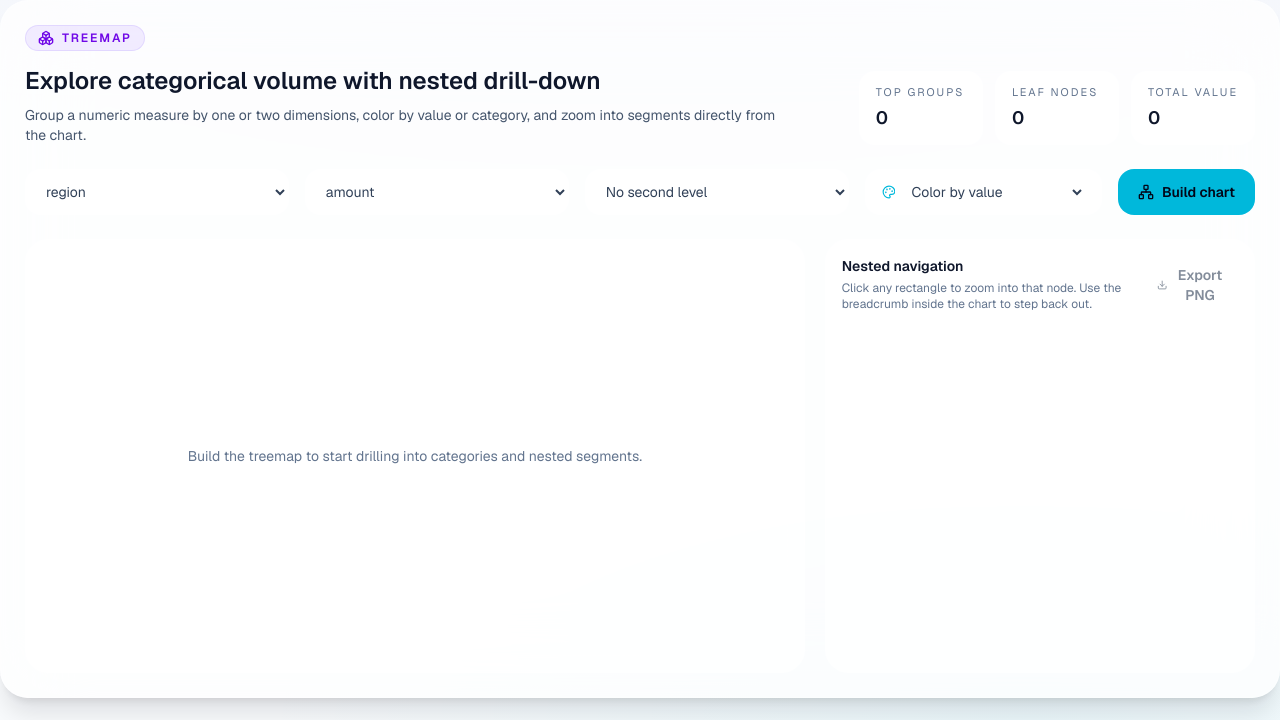
Test: TreemapChart › shows query errors when treemap generation fails
Step 1. Click the button "Build chart" → (1186, 192), box [1118,169,1255,215]
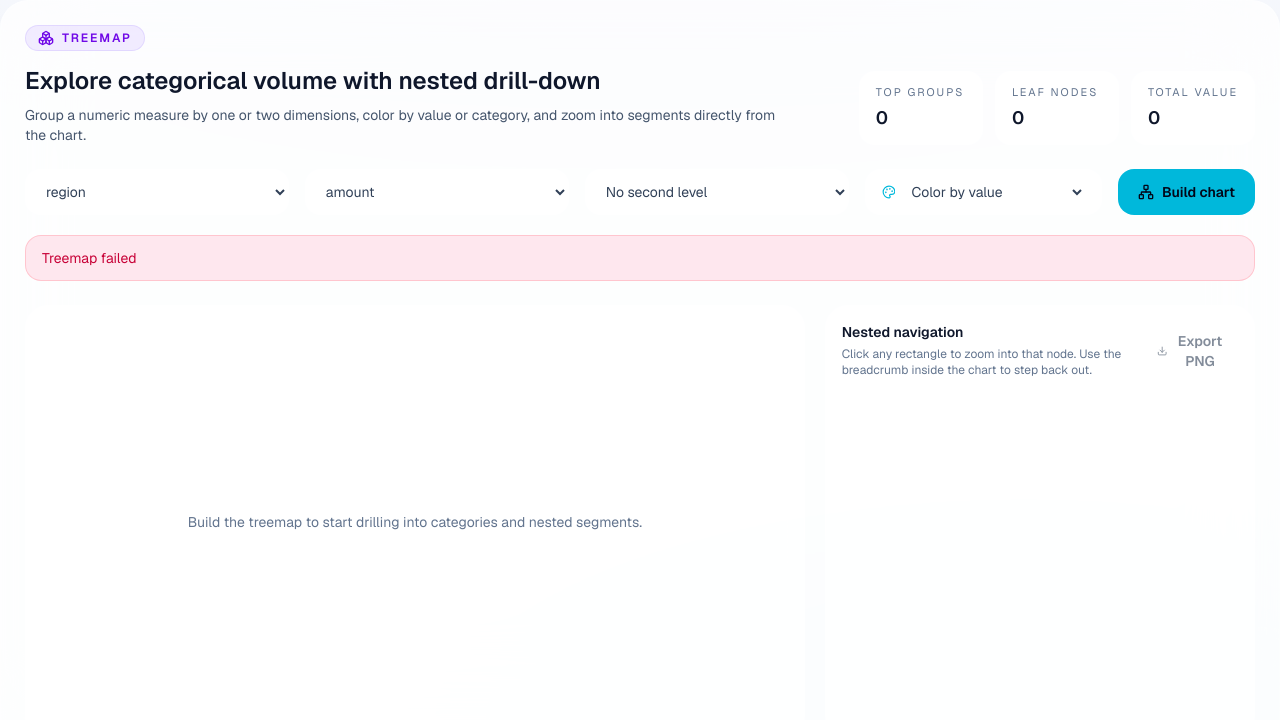
Result: the text "Treemap failed" is shown at [25,235,1255,281]
